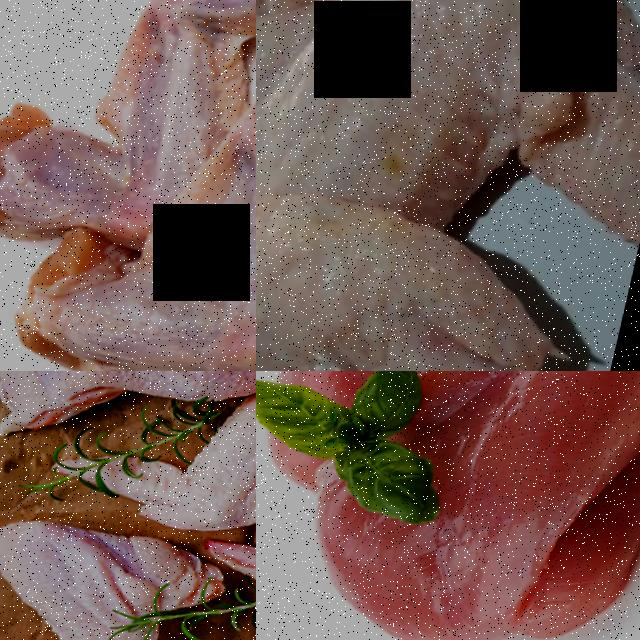chicken breast: (402, 371, 640, 640)
chicken wing: (256, 0, 640, 279), (0, 0, 256, 371), (256, 133, 640, 371), (0, 0, 256, 284), (65, 371, 256, 565), (0, 501, 236, 640), (0, 371, 256, 476)
